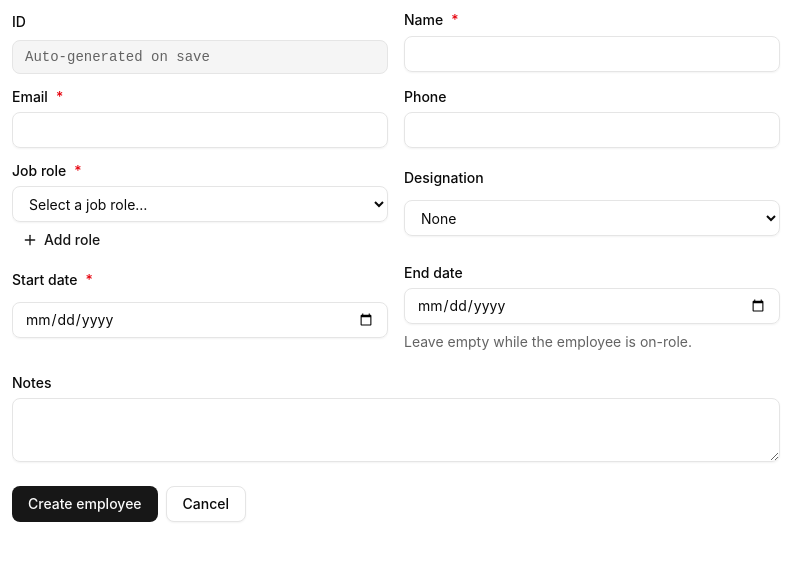
Test: EmployeeForm › shows an inline error when adding a duplicate role
Click the button "Add role" at (72, 240), box [12,230,388,250]
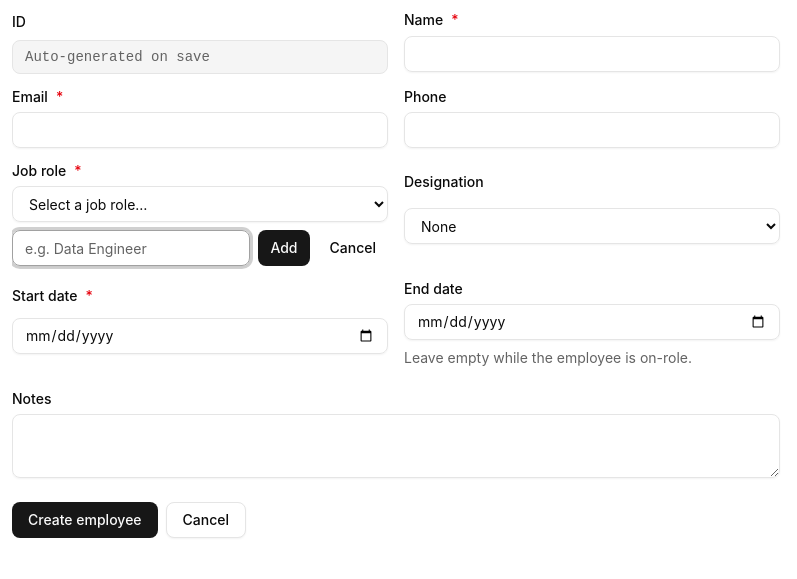
Type "Backend" into the field named "New job role name" at (131, 248), box [12,230,250,266]
Then press Enter
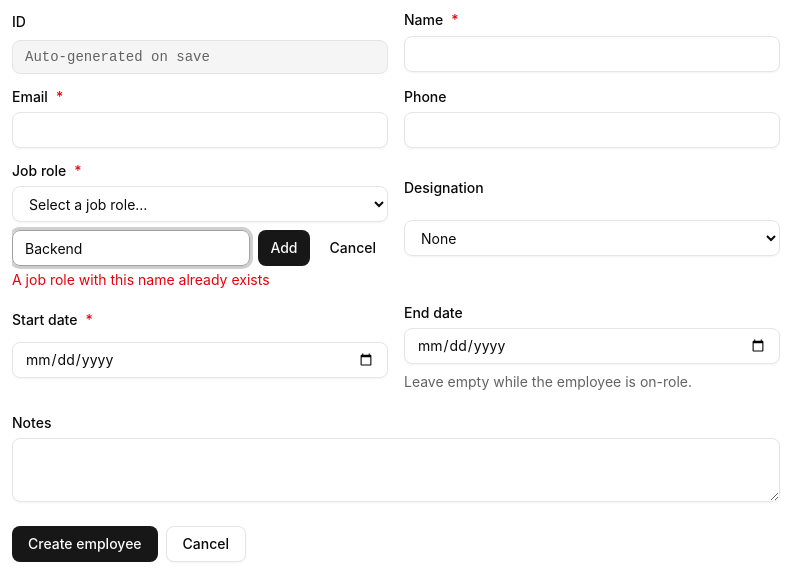
Expected: the message reads "A job role with this name already exists", [12,271,270,288]
